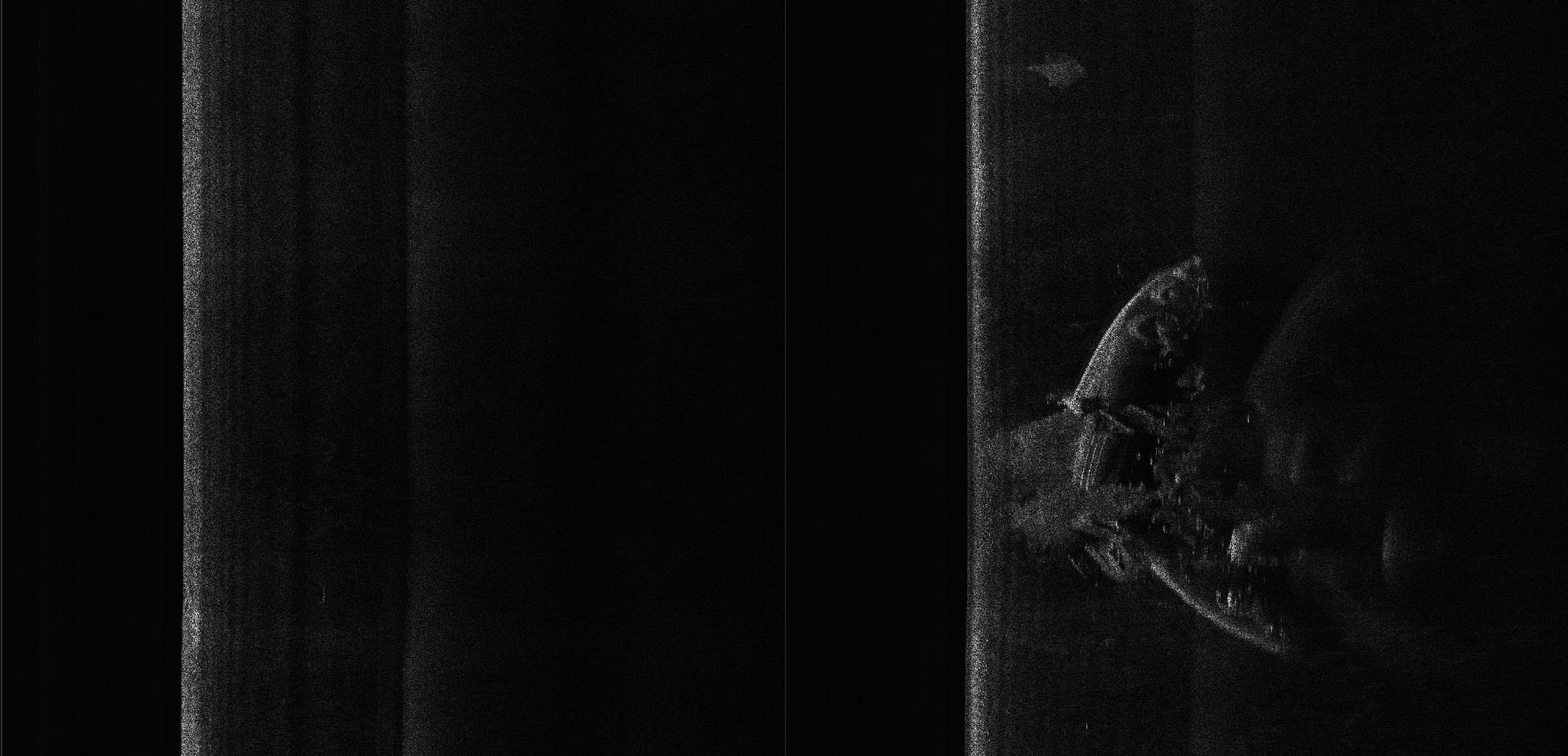ship: (1045, 253, 1308, 665)
